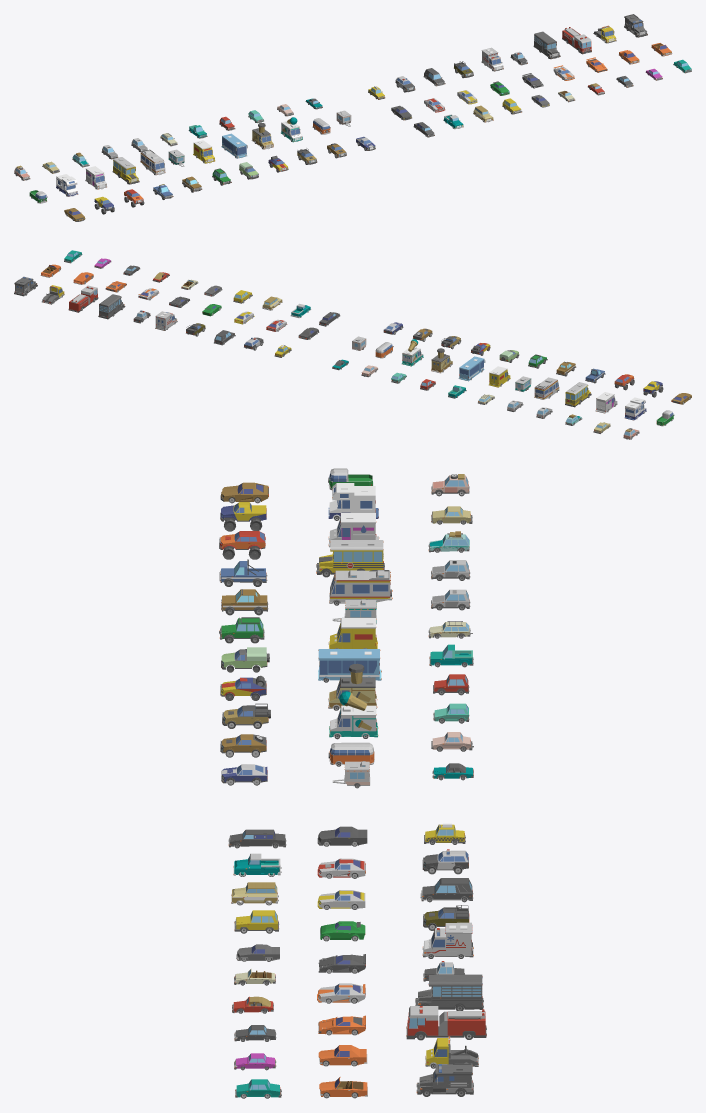
The model's file is car-city.fbx.
The picture shows the model from 3 angles, top to bottom: view 1: azimuth 30°, elevation 25°; view 2: azimuth 150°, elevation 25°; view 3: azimuth 270°, elevation 25°; orthographic projection. The views are drawn at different scales.
Parts seen in each view (by area): view 1: 5403, 5333, 4731, 4787, 4801, 4843, 4815, 4773, 4759, 5417, 4745, 5389; view 2: 5403, 4731, 5333, 4801, 4787, 4815, 4773, 4843, 4745, 4759, 5417, 5389; view 3: 5403, 5333, 4731, 4787, 4801, 4773, 5389, 5417, 4815, 4759, 4843, 4745 (+9 smaller).
Boxes of the visible parts, box(x1,y1,x2,y2) form: 5403: box(562, 27, 591, 54); 5333: box(533, 31, 560, 59); 4731: box(112, 157, 139, 184); 4787: box(140, 149, 165, 175); 4801: box(221, 133, 247, 158); 4843: box(251, 123, 273, 149); 4815: box(56, 174, 78, 196); 4773: box(281, 117, 302, 142); 4759: box(193, 140, 215, 163); 5417: box(481, 47, 503, 71); 4745: box(85, 166, 107, 189); 5389: box(624, 14, 647, 37); 5403: box(68, 285, 98, 312); 4731: box(565, 382, 591, 407); 5333: box(98, 294, 125, 319); 4801: box(458, 356, 485, 381); 4787: box(534, 377, 559, 399); 4815: box(624, 397, 646, 420); 4773: box(401, 339, 423, 366); 4843: box(431, 348, 452, 373); 4745: box(595, 392, 617, 413); 4759: box(489, 366, 510, 387); 5417: box(155, 311, 177, 330); 5389: box(14, 276, 37, 296); 5403: box(406, 1006, 486, 1040); 5333: box(415, 974, 483, 1010); 4731: box(316, 540, 384, 577); 4787: box(329, 570, 392, 605); 4801: box(318, 649, 381, 682); 4773: box(329, 691, 378, 739); 5389: box(416, 1063, 473, 1096); 5417: box(422, 922, 473, 958); 4815: box(328, 483, 378, 520); 4759: box(328, 618, 377, 648); 4843: box(328, 663, 377, 710); 4745: box(328, 513, 379, 547).
Bounding box in the file's own units: 11446 × 426 × 2122.
